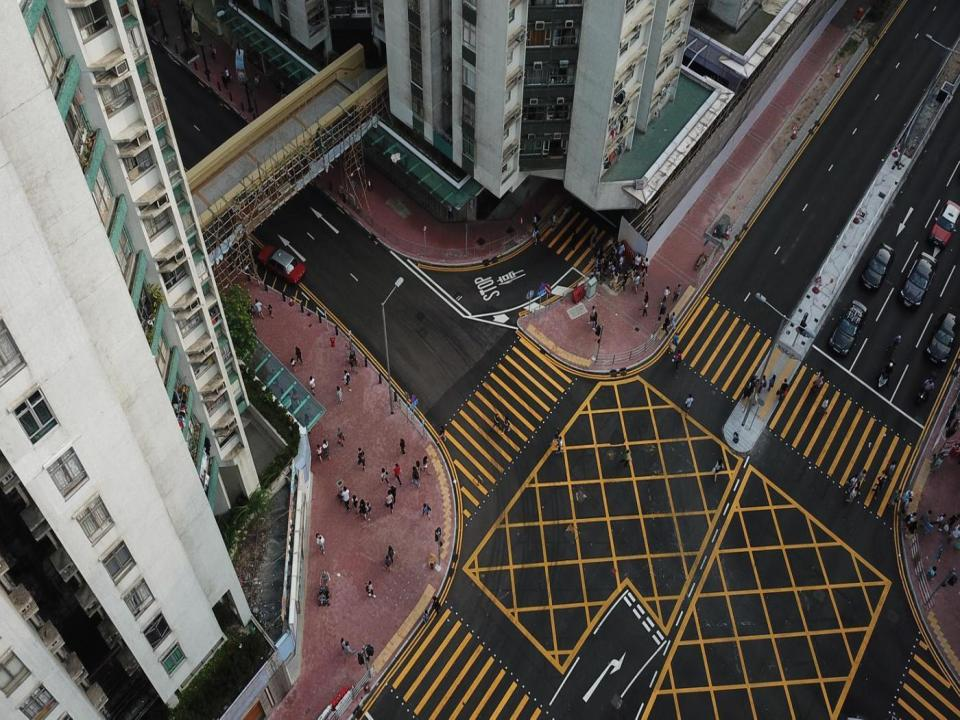car: (899, 251, 937, 309), (828, 300, 866, 356), (256, 244, 306, 285), (924, 312, 960, 364), (860, 242, 894, 292), (928, 199, 960, 250)
